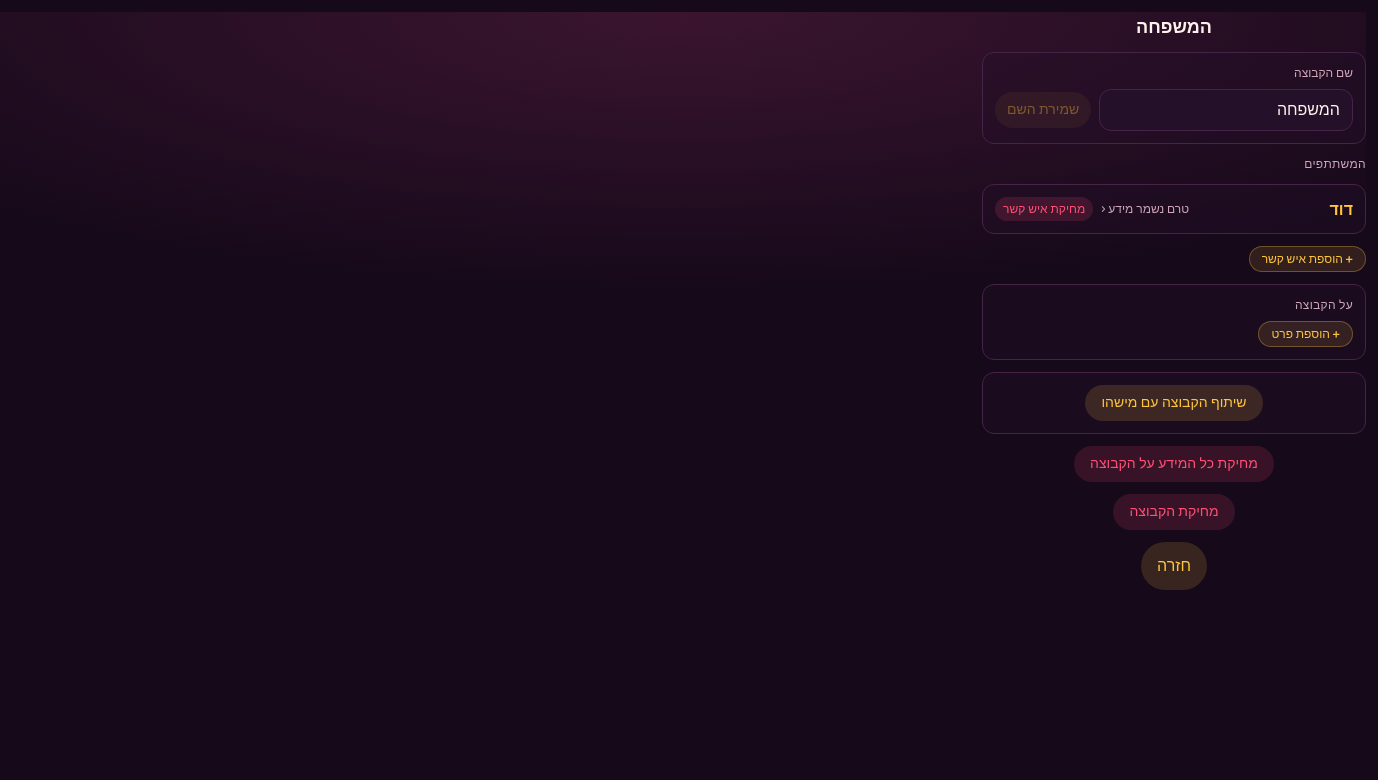
Test: deleting a person from the group › asks for confirmation, then deletes the contact
Click the button with aria-label "מחיקת איש קשר - דוד" at x=1044, y=209, box x1=995 y1=197 x2=1093 y2=221
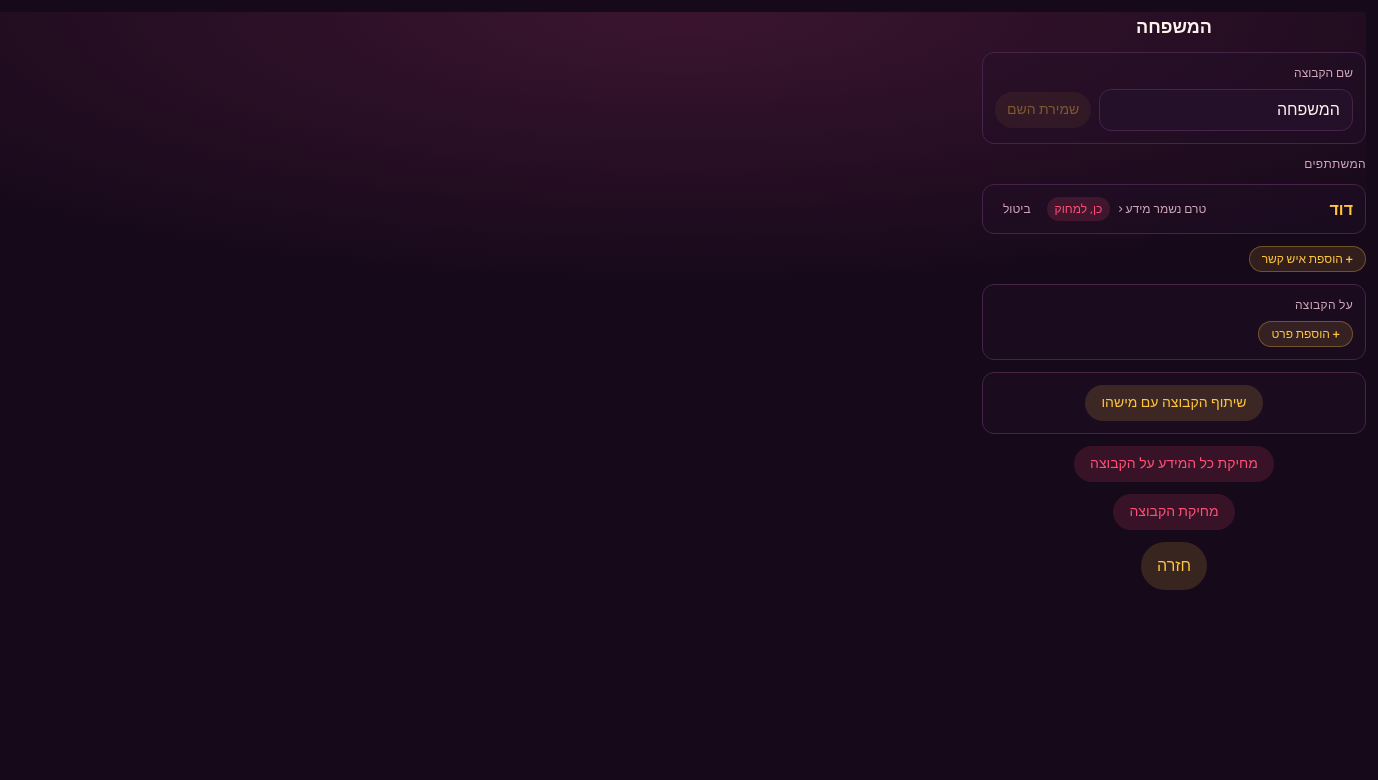
Click the button "כן, למחוק" at x=1078, y=209, box x1=1047 y1=197 x2=1110 y2=221
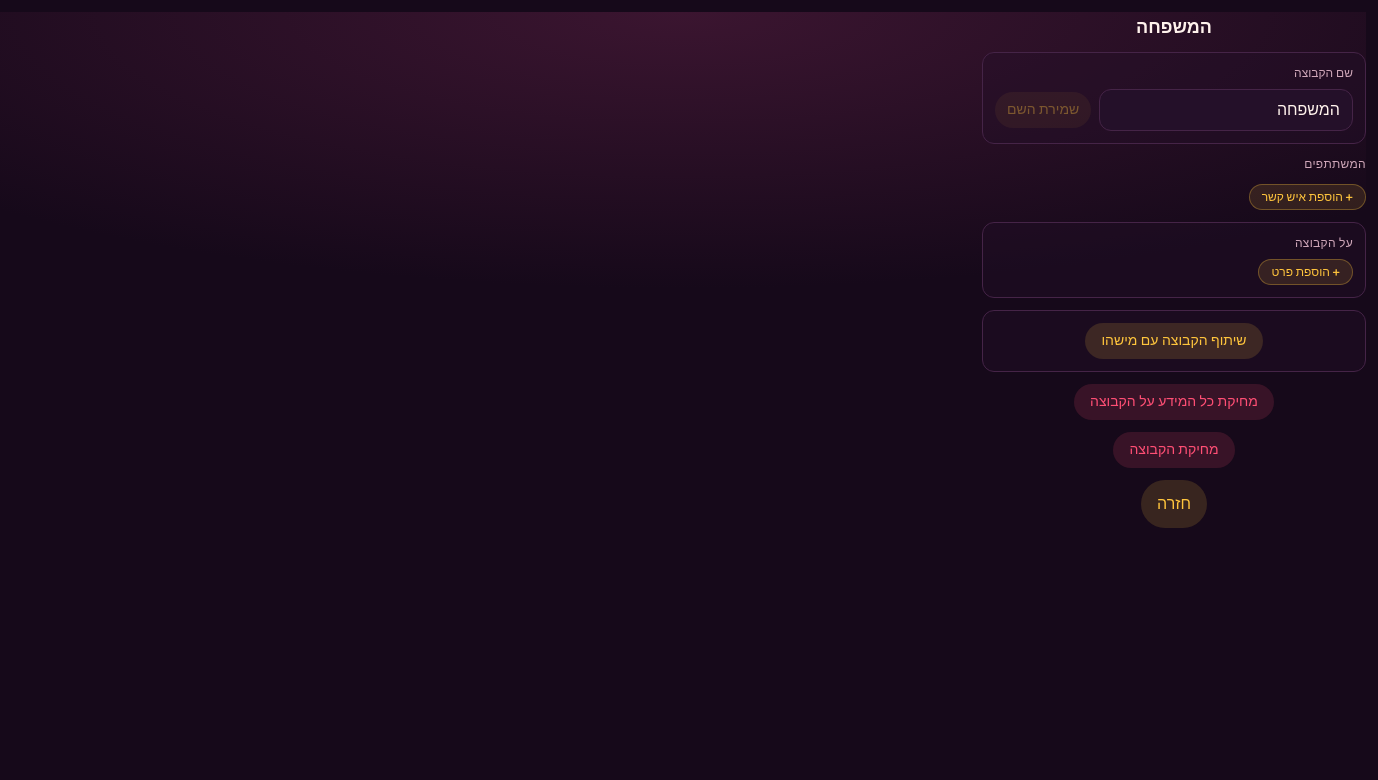
Expected: the button "דוד" is gone
